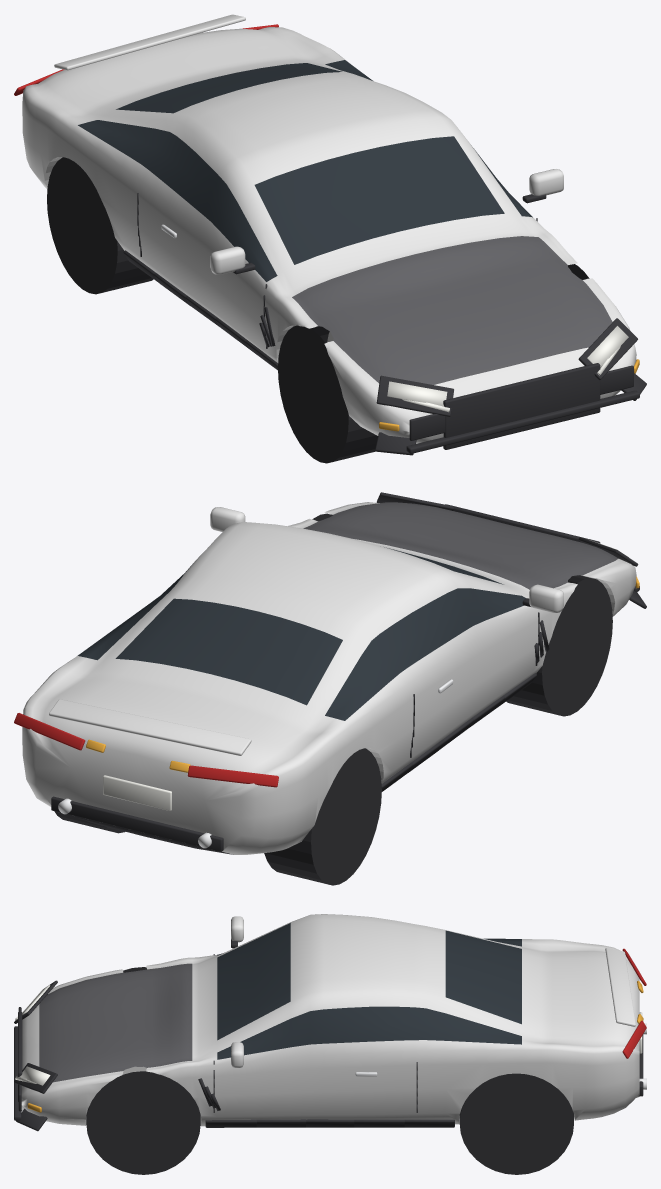
File: fastback.glb
3 renders of one model, top to bottom at view 1: azimuth 30°, elevation 25°; view 2: azimuth 150°, elevation 25°; view 3: azimuth 270°, elevation 25°, orthographic. The views are drawn at different scales.
Visible parts, largest first — view 1: fastback, fastback_well, fastback_well.002, grille, splitter, ducktail, lamp_housing, headlight, lamp_housing.001, mirror, mirror.001, intake (+3 smaller); view 2: fastback, fastback_well.002, fastback_well, ducktail, diffuser, plate_r, taillight, taillight.001, mirror, grille, mirror.001; view 3: fastback, fastback_well.001, fastback_well.003, ducktail, skirt.008, skirt.009, lamp_housing.001, skirt.006, skirt.007, skirt.005, splitter.
Boxes of the visible parts, <box> form: fastback: <box>22,27,636,443</box>; fastback_well: <box>278,325,377,463</box>; fastback_well.002: <box>47,157,153,294</box>; grille: <box>443,363,600,449</box>; splitter: <box>406,390,639,453</box>; ducktail: <box>54,14,245,70</box>; lamp_housing: <box>376,375,453,416</box>; headlight: <box>387,381,447,406</box>; lamp_housing.001: <box>578,318,637,380</box>; mirror: <box>210,246,245,274</box>; mirror.001: <box>529,169,563,195</box>; intake: <box>409,414,445,440</box>; fastback: <box>22,502,636,854</box>; fastback_well.002: <box>264,748,381,885</box>; fastback_well: <box>506,575,612,716</box>; ducktail: <box>49,699,251,755</box>; diffuser: <box>51,796,223,851</box>; plate_r: <box>103,775,171,810</box>; taillight: <box>187,765,278,787</box>; taillight.001: <box>14,713,85,750</box>; mirror: <box>529,584,563,612</box>; grille: <box>445,504,600,543</box>; mirror.001: <box>210,507,245,531</box>; fastback: <box>21,914,639,1126</box>; fastback_well.001: <box>86,1071,200,1174</box>; fastback_well.003: <box>459,1073,573,1174</box>; ducktail: <box>605,948,635,1026</box>; skirt.008: <box>354,1119,404,1127</box>; skirt.009: <box>404,1119,454,1127</box>; lamp_housing.001: <box>14,1063,57,1093</box>; skirt.006: <box>256,1119,306,1127</box>; skirt.007: <box>306,1119,354,1127</box>; skirt.005: <box>205,1119,256,1127</box>; splitter: <box>14,1026,21,1120</box>.
Bounding box in the file's own units: 2.25 × 1.35 × 4.37.
